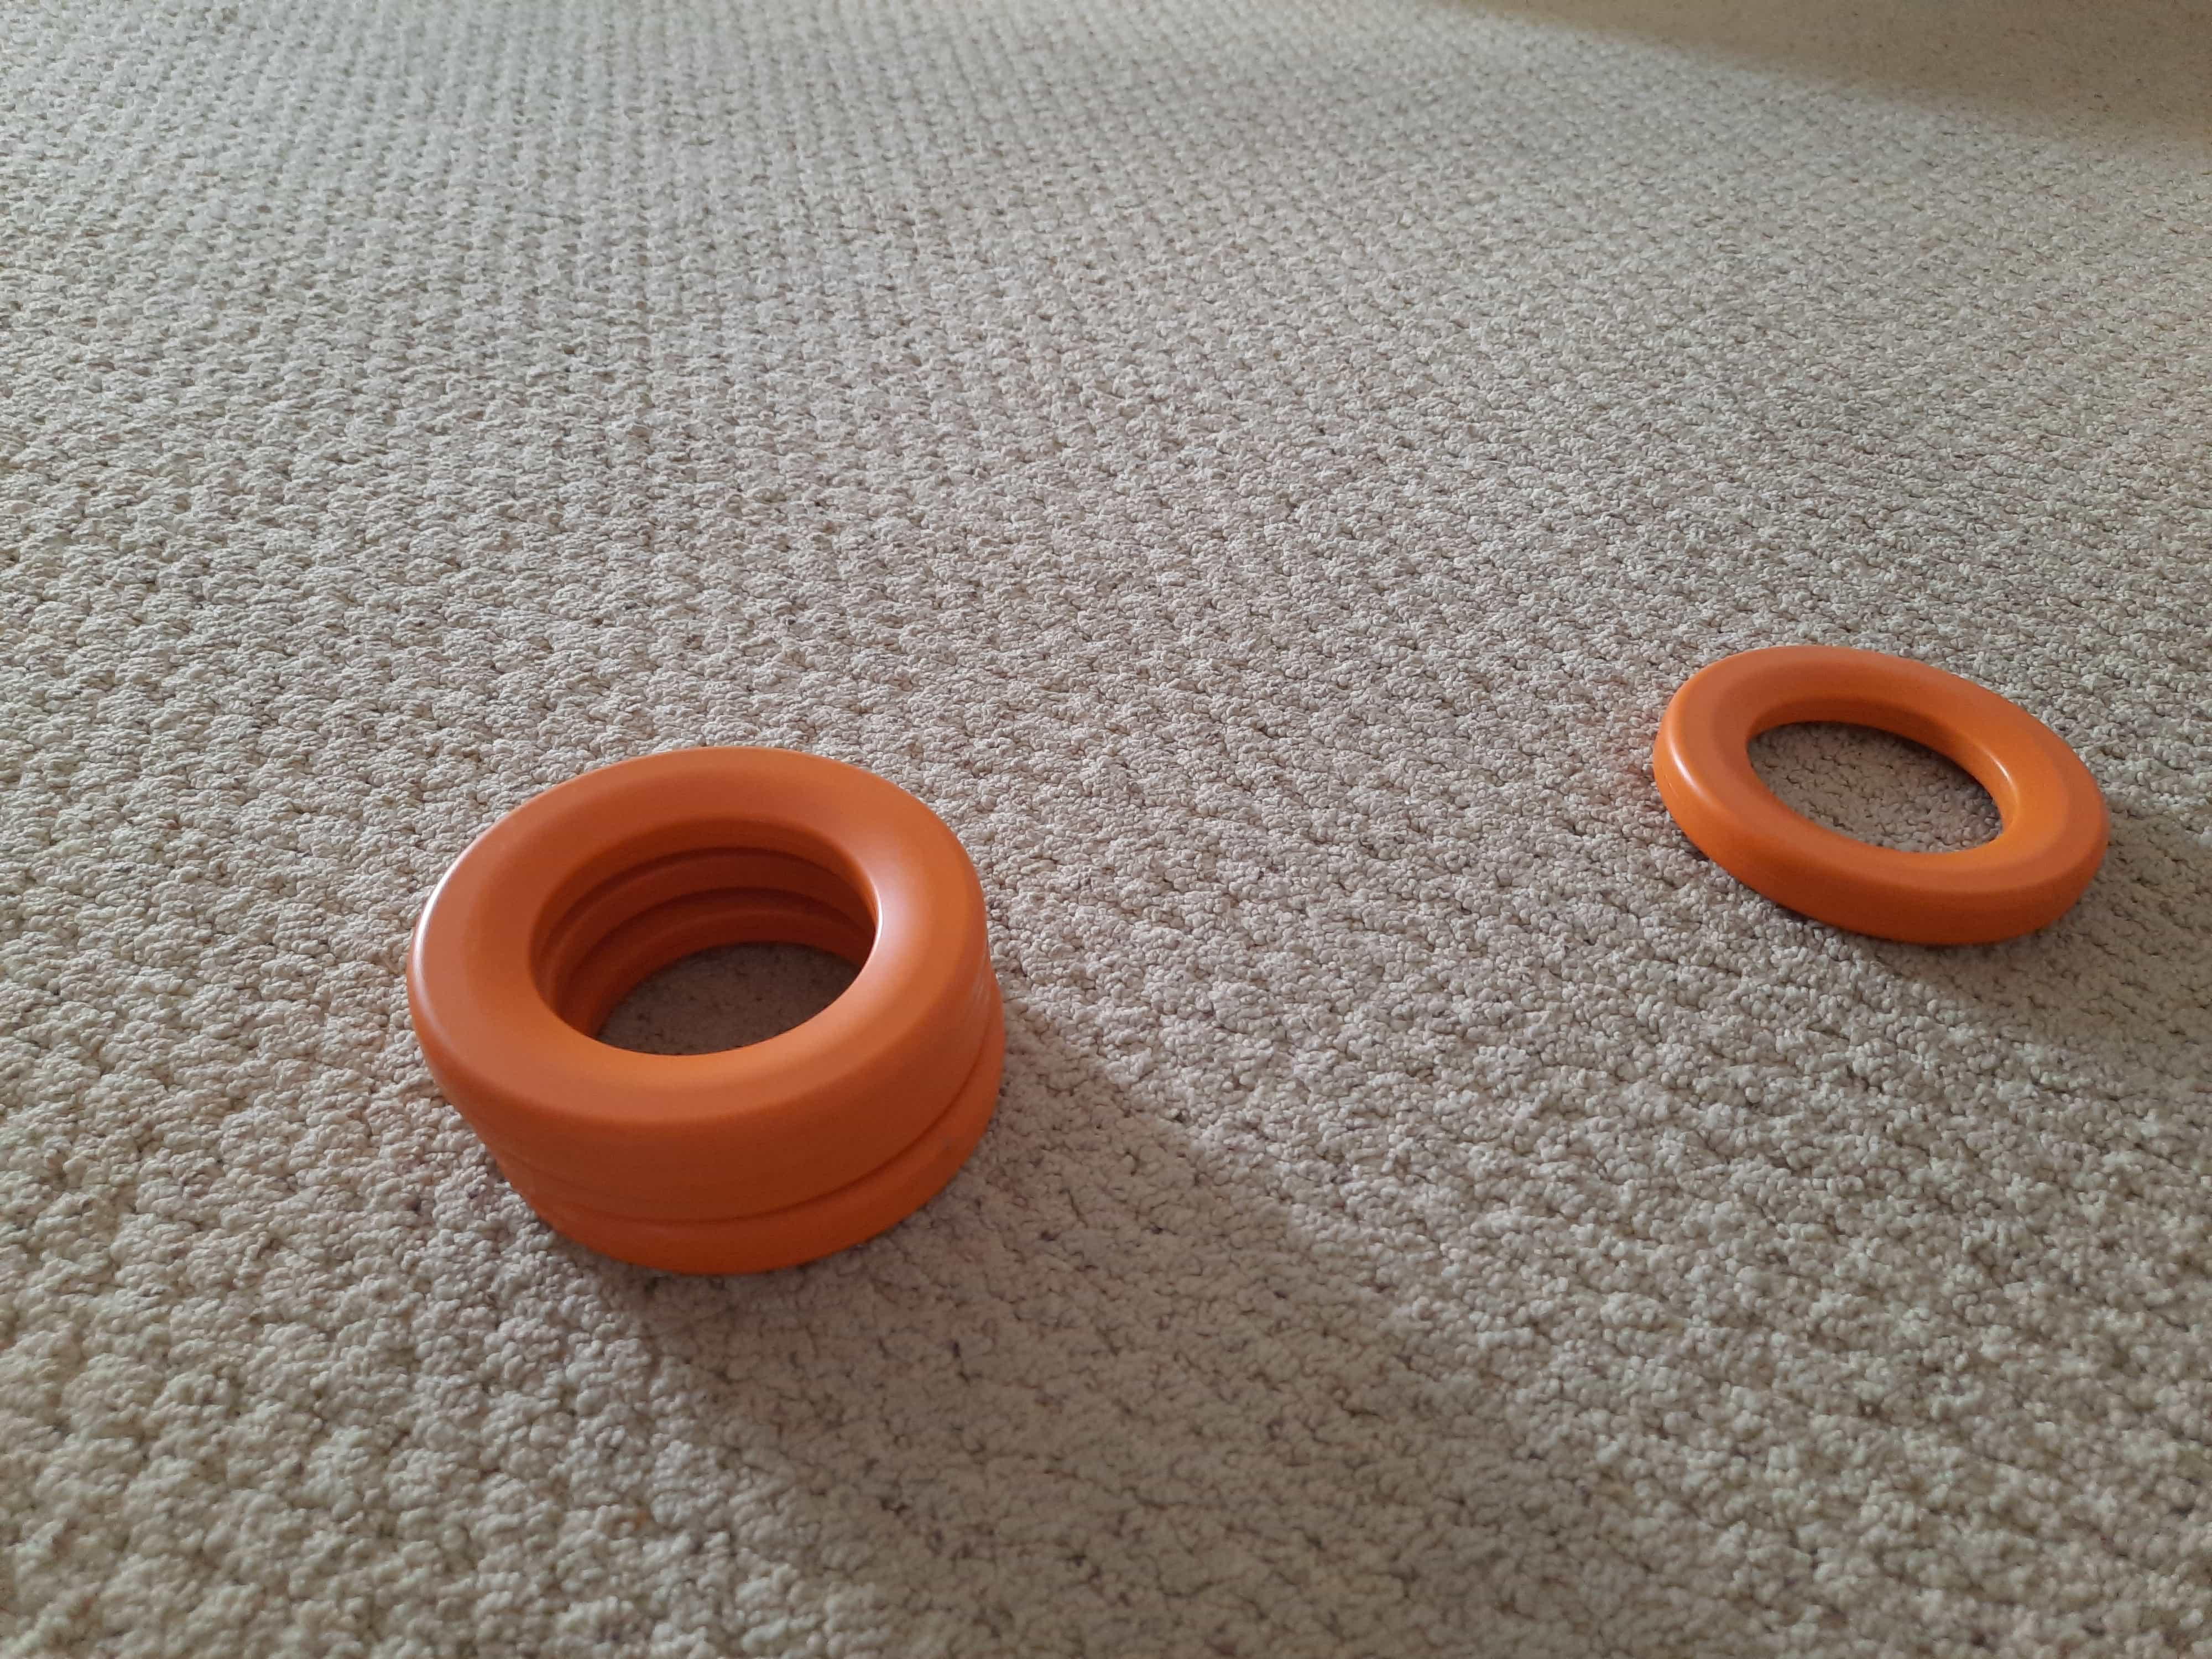FourStack: (409, 744, 1005, 1263)
OneStack: (1653, 643, 2106, 932)
